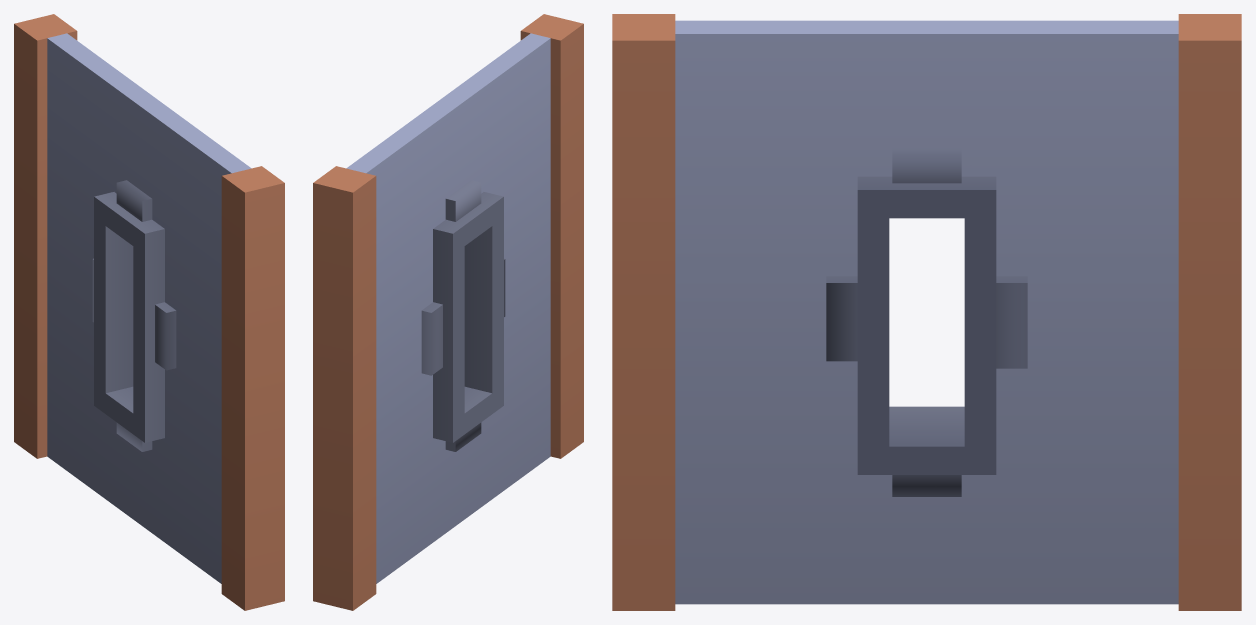
File: wall-window-stone.glb
The picture shows the model from 3 angles, left to right: view 1: azimuth 30°, elevation 25°; view 2: azimuth 150°, elevation 25°; view 3: azimuth 270°, elevation 25°; orthographic projection. The views are drawn at different scales.
Visible parts, largest first — view 1: wall-window-stone; view 2: wall-window-stone; view 3: wall-window-stone.
Boxes of the visible parts, x1,y1,x2,y2 form: wall-window-stone: (14,14,284,610); wall-window-stone: (313,14,583,610); wall-window-stone: (612,14,1241,610).
Size of the model in its own units: 0.15 by 1 by 1.
1 material, 1 textured.
